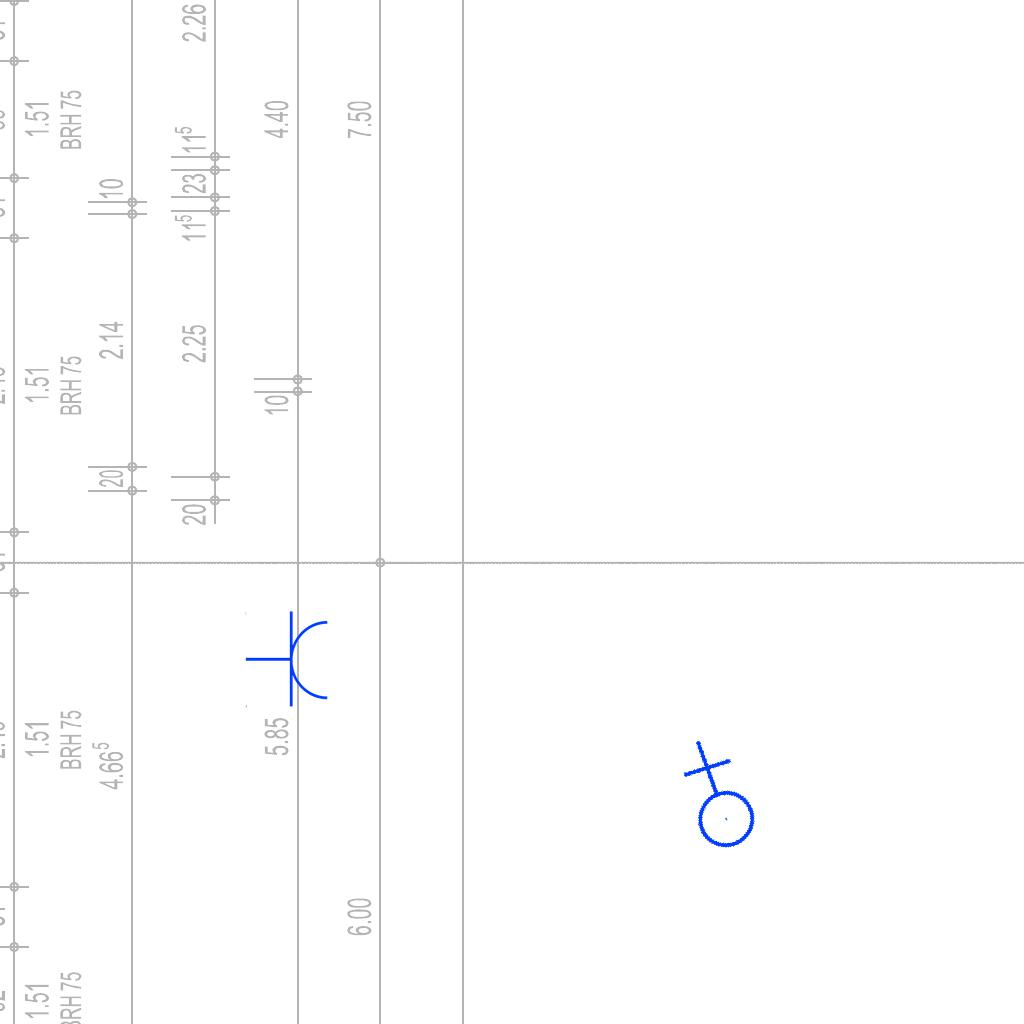Elektroanschluss_allgemein_230V_Geraeteanschlussdose_230V: (652, 736, 779, 866)
Schukosteckdose_einfach: (245, 610, 332, 710)
